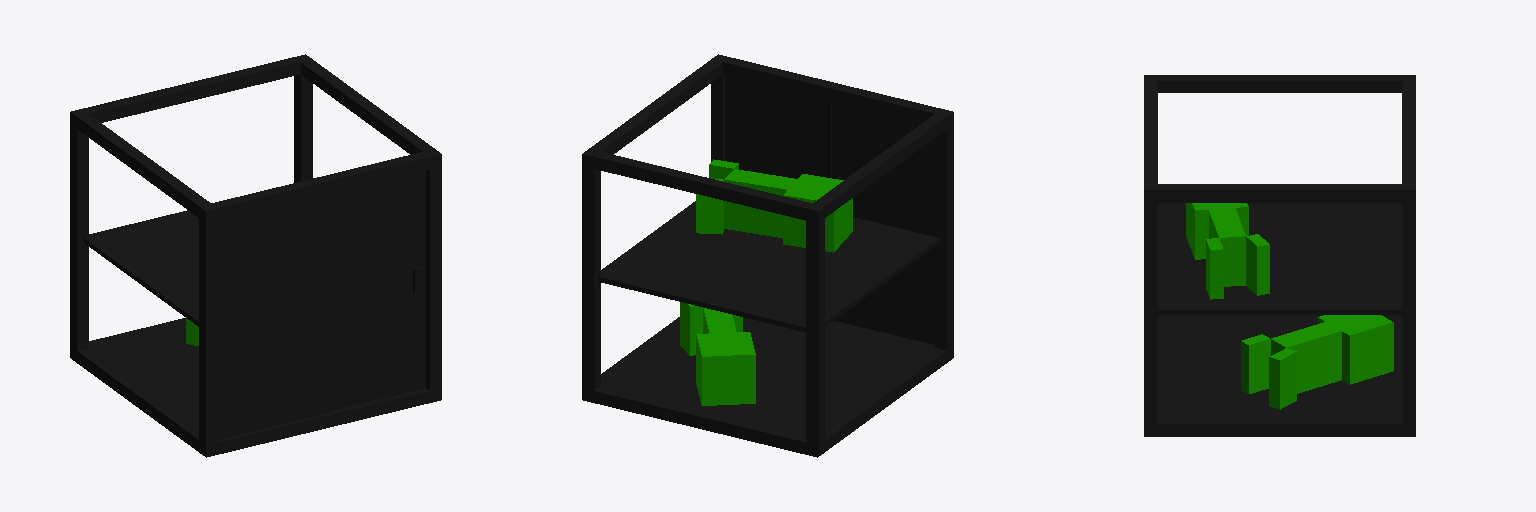
Rendered from prize_cabinet.obj.
The picture shows the model from 3 angles: view 1: azimuth 30°, elevation 25°; view 2: azimuth 150°, elevation 25°; view 3: azimuth 270°, elevation 25°; orthographic projection.
Parts seen in each view (by area): view 1: Cube; view 2: Cube; view 3: Cube.
Part boxes in pixels (x1,y1,x2,y2): Cube: (70,54,441,457); Cube: (582,54,953,457); Cube: (1144,75,1415,436).
Size of the model in its own units: 1 by 1 by 1.